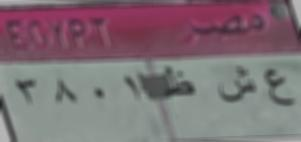0: (90, 78, 110, 110)
1: (119, 71, 144, 109)
3: (14, 70, 39, 108)
8: (48, 76, 82, 110)
Thaa: (161, 60, 198, 100)
ain: (264, 64, 296, 119)
sheen: (217, 64, 258, 108)
